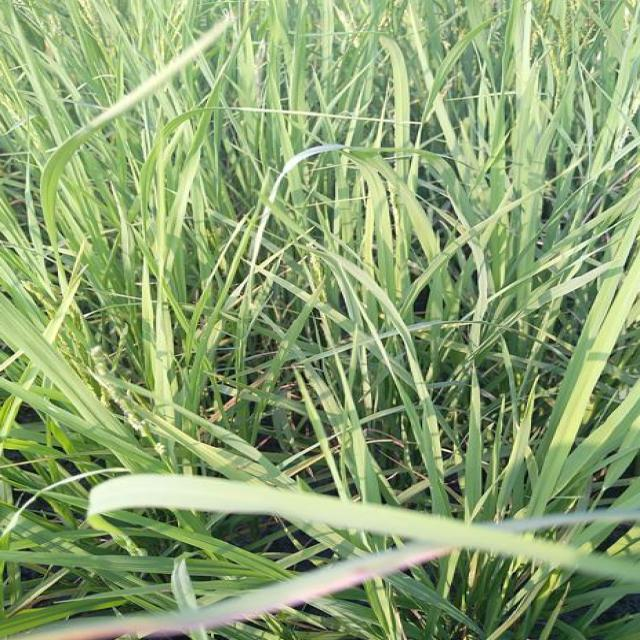Leaf Blight: (0, 548, 448, 640), (281, 454, 324, 478), (330, 445, 341, 453)
